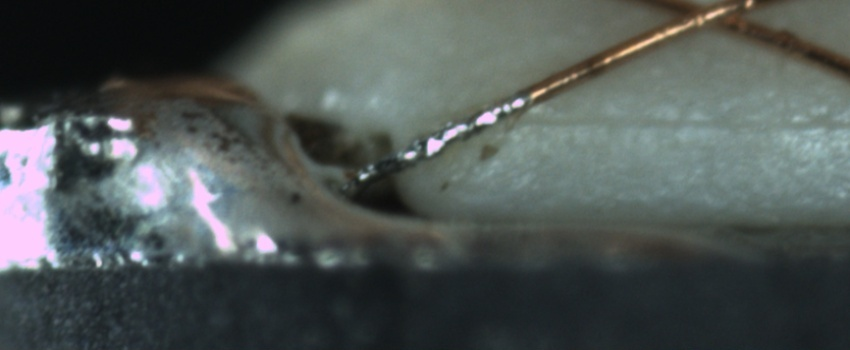CL: (650, 0, 765, 37)
DL: (497, 93, 850, 152)
TS: (352, 90, 531, 188)
TTCW: (364, 67, 561, 191)
